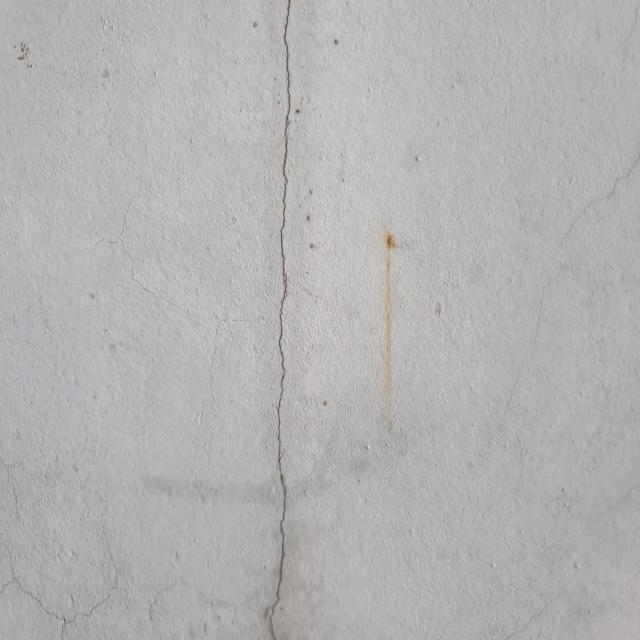SurfaceCrack: (219, 1, 346, 640)
